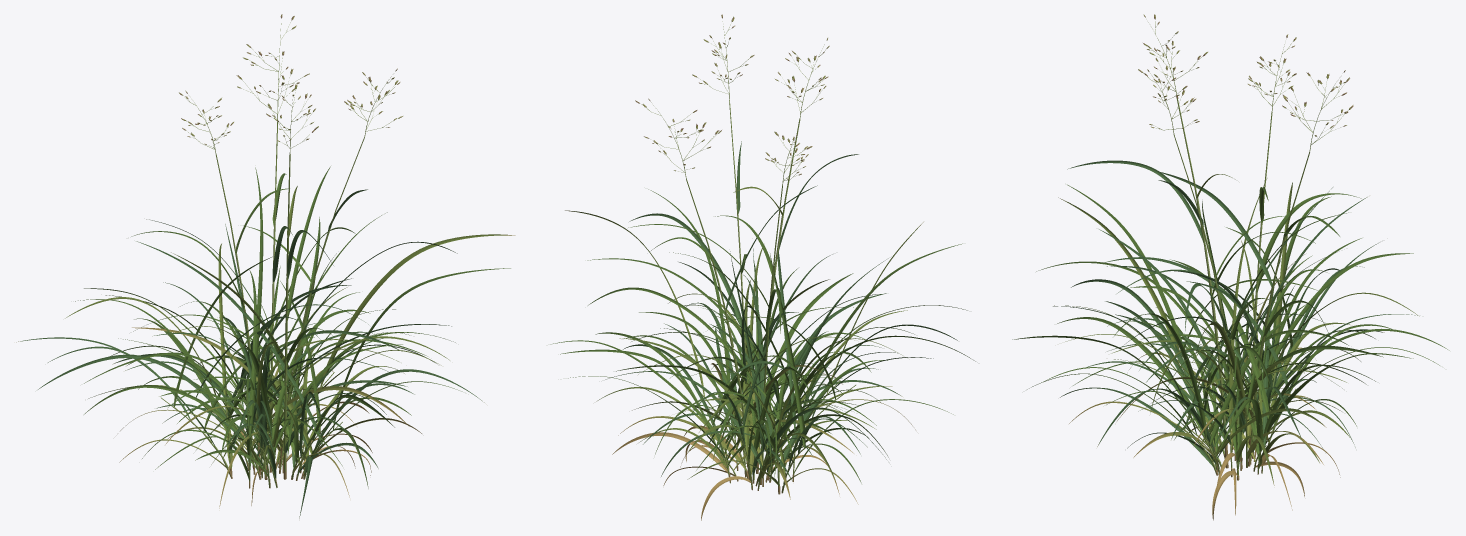
Rendered from meadow-tuft.glb.
3 views of the same model, side by side, from view 1: azimuth 30°, elevation 25°; view 2: azimuth 150°, elevation 25°; view 3: azimuth 270°, elevation 25° (orthographic). The views are drawn at different scales.
Parts seen in each view (by area): view 1: Flowering culm 03, Flowering culm 01, Leafy tiller 19, Flowering culm 02, Flowering culm 04, Leafy tiller 23, Leafy tiller 30, Leafy tiller 07, Leafy tiller 16, Leafy tiller 06, Leafy tiller 21, Leafy tiller 15 (+18 smaller); view 2: Flowering culm 04, Flowering culm 01, Flowering culm 03, Leafy tiller 07, Leafy tiller 28, Flowering culm 02, Leafy tiller 23, Leafy tiller 30, Leafy tiller 10, Leafy tiller 26, Leafy tiller 09, Leafy tiller 13 (+18 smaller); view 3: Flowering culm 03, Flowering culm 04, Flowering culm 01, Leafy tiller 06, Leafy tiller 19, Leafy tiller 28, Flowering culm 02, Leafy tiller 15, Leafy tiller 30, Leafy tiller 25, Leafy tiller 11, Leafy tiller 07 (+18 smaller).
Boxes of the visible parts, x1,y1,x2,y2 form: Flowering culm 03: (256, 84, 353, 479); Flowering culm 01: (146, 68, 457, 473); Leafy tiller 19: (136, 241, 462, 518); Flowering culm 02: (125, 90, 401, 474); Flowering culm 04: (180, 14, 355, 472); Leafy tiller 23: (16, 256, 322, 478); Leafy tiller 30: (133, 234, 515, 469); Leafy tiller 07: (38, 297, 372, 470); Leafy tiller 16: (225, 270, 402, 487); Leafy tiller 06: (196, 268, 510, 478); Leafy tiller 21: (84, 336, 449, 479); Leafy tiller 15: (84, 285, 390, 474); Flowering culm 04: (588, 98, 885, 480); Flowering culm 01: (629, 14, 764, 477); Flowering culm 03: (628, 38, 858, 473); Leafy tiller 07: (605, 324, 902, 490); Leafy tiller 28: (690, 254, 832, 520); Flowering culm 02: (715, 131, 842, 484); Leafy tiller 23: (691, 253, 867, 504); Leafy tiller 30: (565, 210, 853, 479); Leafy tiller 10: (638, 335, 878, 494); Leafy tiller 26: (661, 252, 953, 481); Leafy tiller 09: (560, 336, 854, 475); Leafy tiller 13: (587, 258, 967, 480); Flowering culm 03: (1067, 14, 1348, 468); Flowering culm 04: (1107, 70, 1439, 466); Flowering culm 01: (1065, 66, 1367, 468); Leafy tiller 06: (1097, 302, 1309, 474); Leafy tiller 19: (1027, 187, 1346, 475); Leafy tiller 28: (1102, 257, 1417, 477); Flowering culm 02: (1122, 34, 1361, 443); Leafy tiller 15: (1073, 253, 1413, 458); Leafy tiller 30: (1194, 269, 1327, 467); Leafy tiller 25: (1129, 260, 1356, 496); Leafy tiller 11: (1053, 306, 1366, 466); Leafy tiller 07: (1234, 182, 1349, 445).
Size of the model in its own units: 1 by 0.9668 by 0.8555.
Materials: 11 (5 with a texture image).
